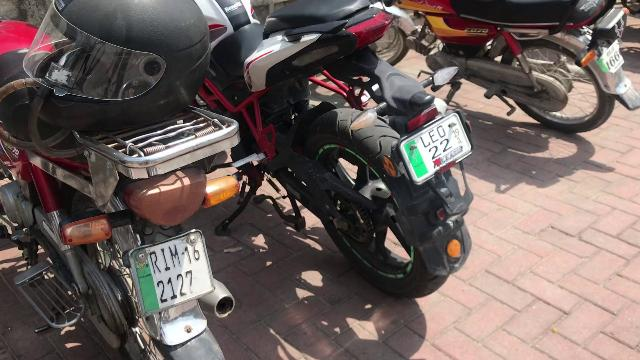plate: (130, 229, 215, 315), (400, 112, 472, 185)
